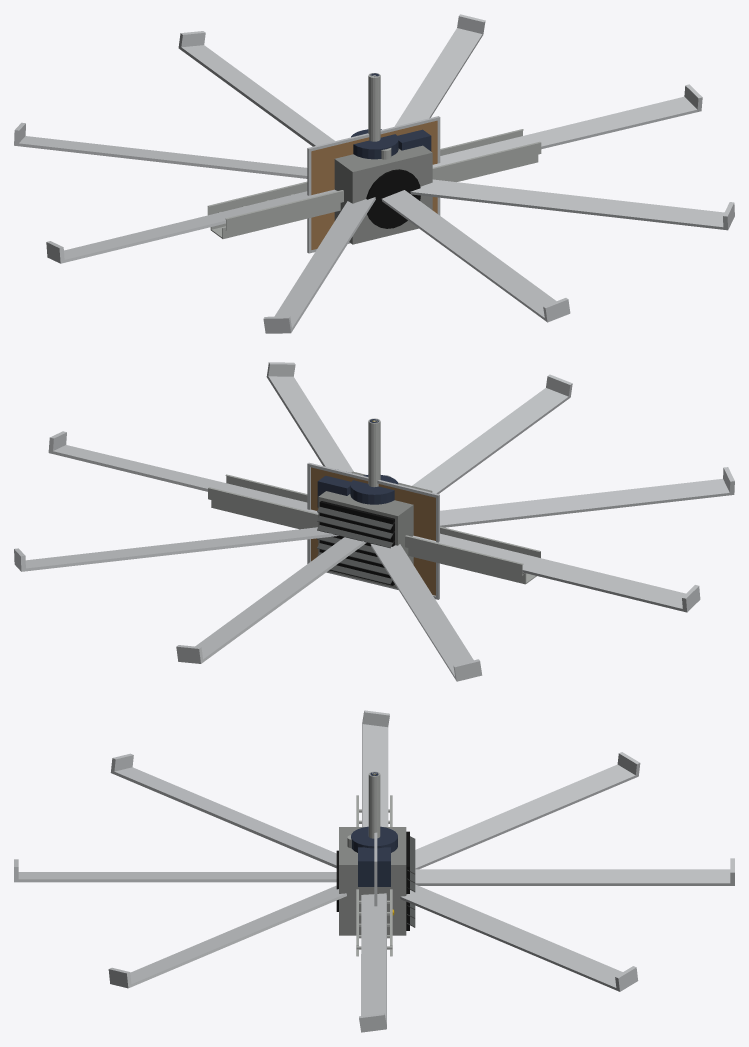
Rendered from shed_fitout.glb.
3 renders of one model, top to bottom at view 1: azimuth 30°, elevation 25°; view 2: azimuth 150°, elevation 25°; view 3: azimuth 270°, elevation 25°, orthographic. The views are drawn at different scales.
Visible parts, largest first — view 1: FanBlades, UnitHeater, TraySection, NoticeBoard, FanMount, FanMotor, Flue; view 2: FanBlades, UnitHeater, TraySection, NoticeBoard, FanMount, FanMotor, Flue; view 3: FanBlades, UnitHeater, FanMotor, Flue, TraySection.
Part boxes in pixels (bbox=[...]): FanBlades: bbox=[14, 14, 734, 333]; UnitHeater: bbox=[334, 145, 432, 244]; TraySection: bbox=[207, 129, 541, 230]; NoticeBoard: bbox=[307, 116, 440, 253]; FanMount: bbox=[210, 154, 538, 238]; FanMotor: bbox=[351, 129, 431, 159]; Flue: bbox=[368, 73, 380, 141]; FanBlades: bbox=[14, 362, 734, 681]; UnitHeater: bbox=[317, 471, 432, 588]; TraySection: bbox=[208, 474, 540, 575]; NoticeBoard: bbox=[307, 462, 439, 599]; FanMount: bbox=[211, 500, 536, 584]; FanMotor: bbox=[317, 475, 398, 507]; Flue: bbox=[368, 418, 380, 487]; FanBlades: bbox=[14, 710, 734, 1032]; UnitHeater: bbox=[336, 827, 415, 935]; FanMotor: bbox=[351, 826, 397, 886]; Flue: bbox=[368, 771, 380, 838]; TraySection: bbox=[356, 795, 392, 956].
Bounding box in the file's own units: 6.1 × 1.47 × 6.1.
